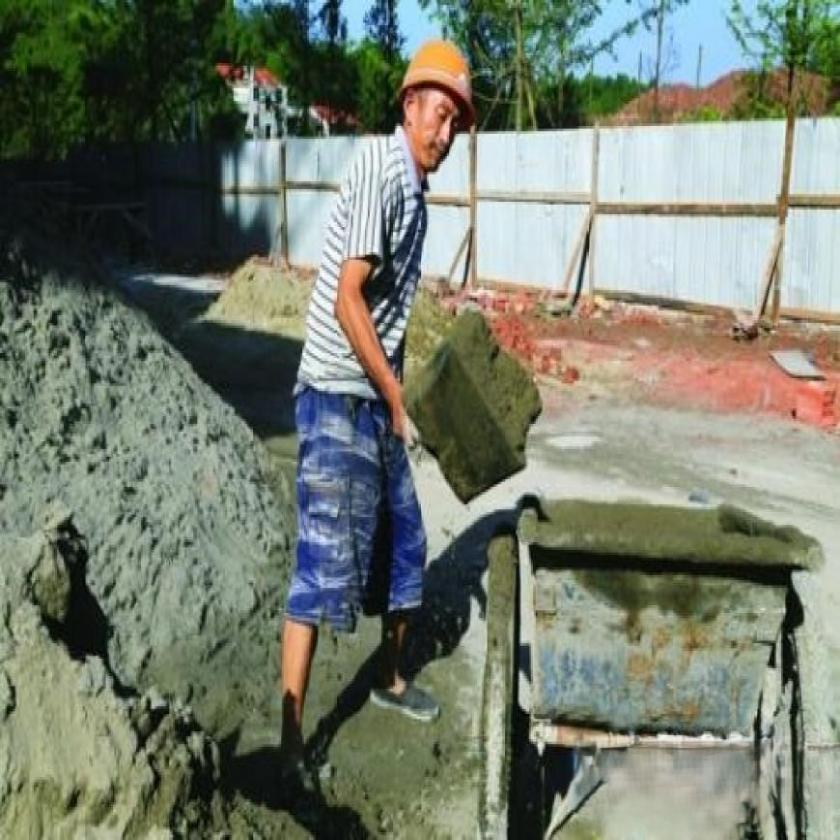Con_casco: (394, 43, 479, 162)
